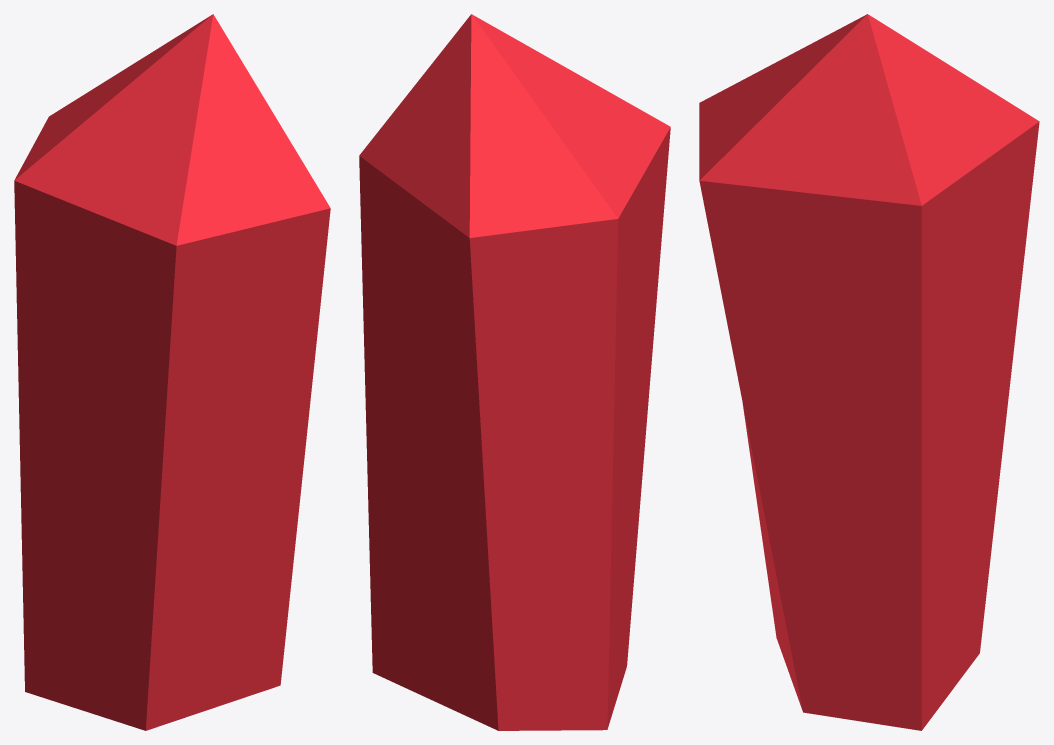
Rendered from redCrystal1.fbx.
The picture shows the model from 3 angles, left to right: view 1: azimuth 30°, elevation 25°; view 2: azimuth 150°, elevation 25°; view 3: azimuth 270°, elevation 25°; orthographic projection. The views are drawn at different scales.
Visible parts, largest first — view 1: Circle; view 2: Circle; view 3: Circle.
Boxes of the visible parts, x1=… form: Circle: x1=14, y1=14, x2=330, y2=730; Circle: x1=359, y1=14, x2=670, y2=730; Circle: x1=699, y1=14, x2=1039, y2=730.
Bounding box in the file's own units: 130 × 314 × 142.
